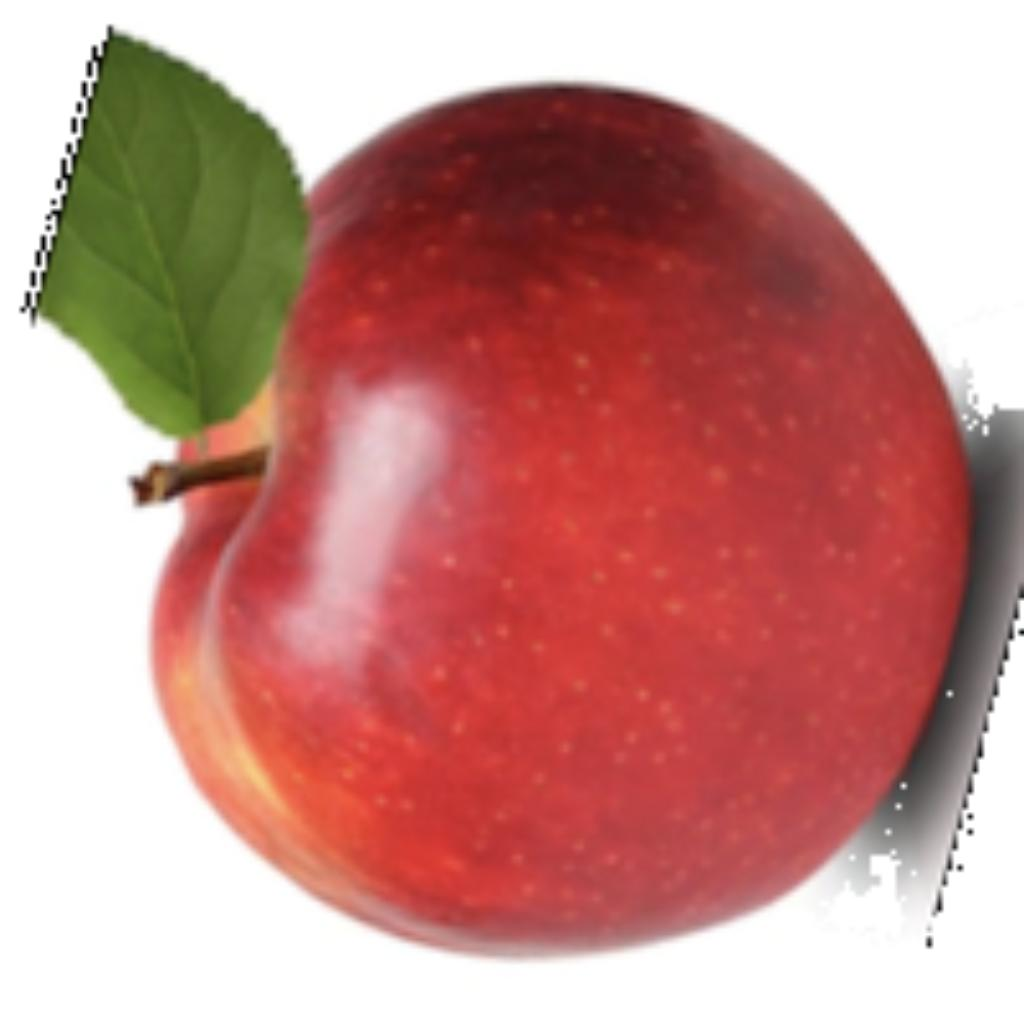apple: (15, 20, 1019, 963)
